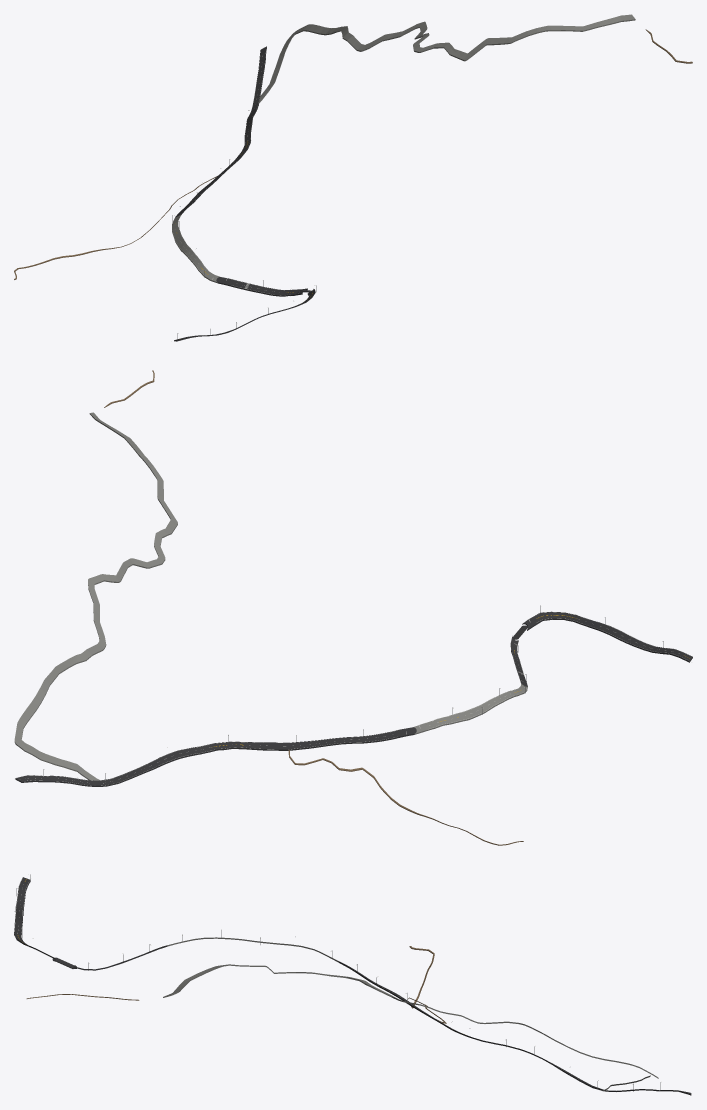
The picture shows the model from 3 angles, top to bottom: view 1: azimuth 30°, elevation 25°; view 2: azimuth 150°, elevation 25°; view 3: azimuth 270°, elevation 25°; orthographic projection. The views are drawn at different scales.
Bounding box in the file's own units: 590 × 231 × 561.
